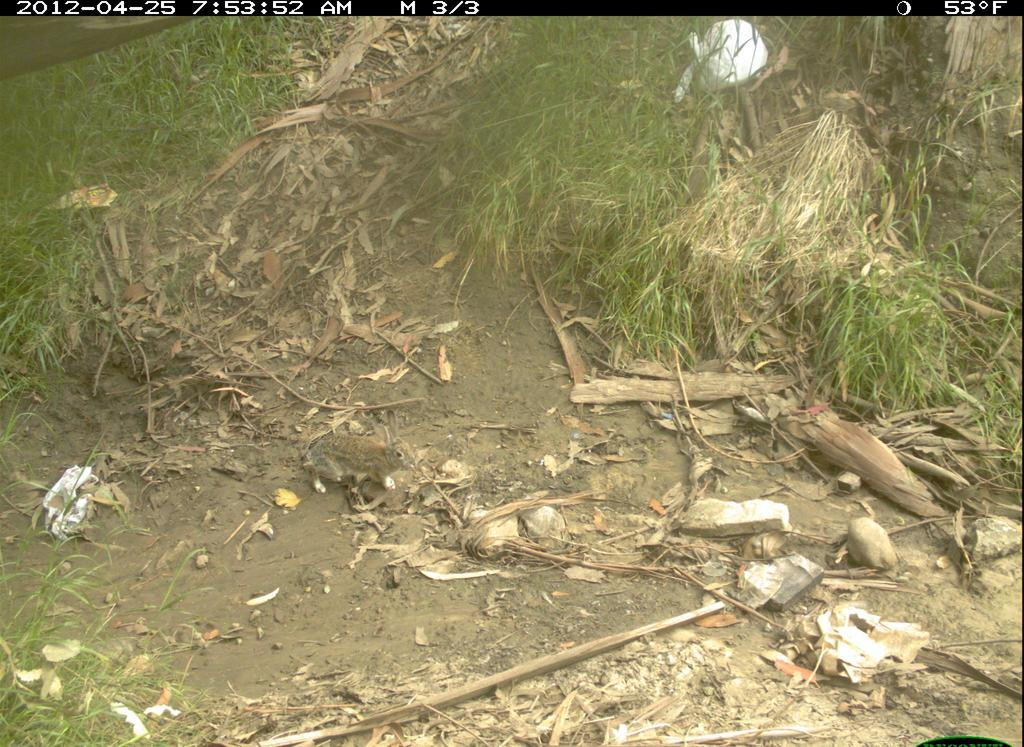rabbit: (297, 402, 433, 541)
